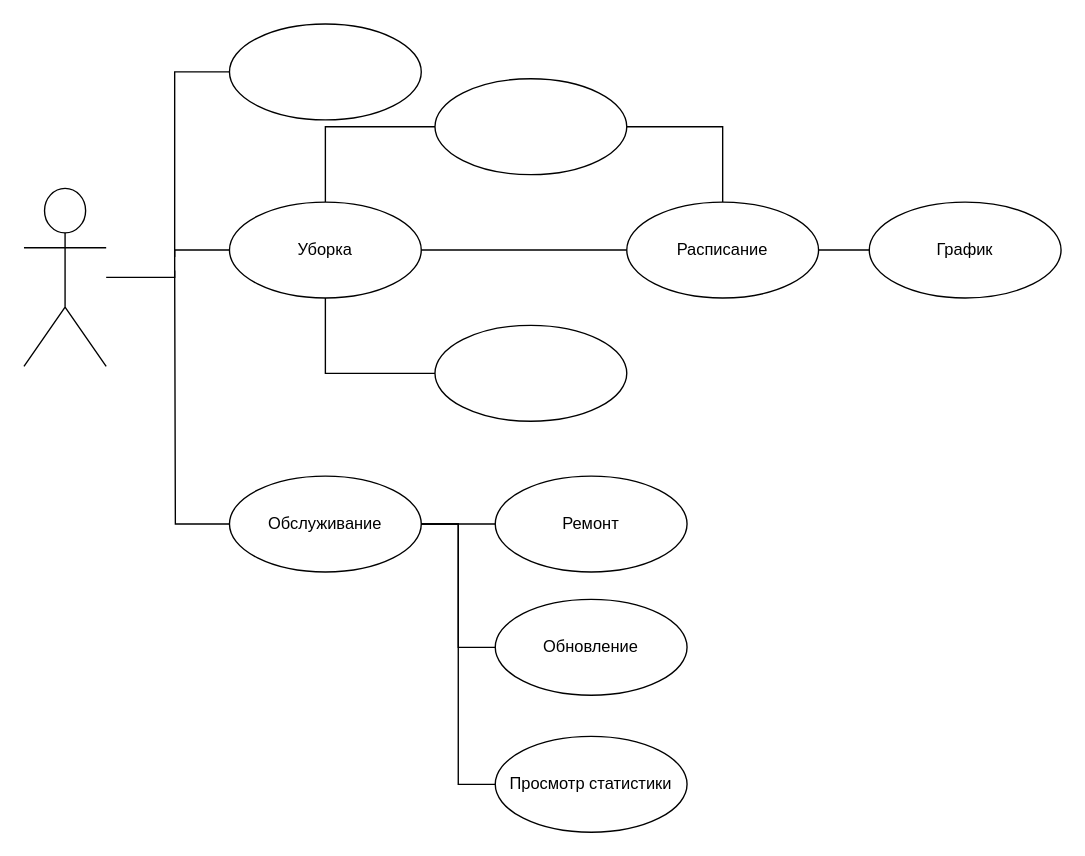
The diagram is 1085 pixels wide and 856 high, and some of its shapes have lost their labels. The shapes that lost their labels are listed below. From the top down, each one's box as (x1, y1, x2, y2) in pixels, then its label:
(228, 23, 421, 120): Подключение
(434, 77, 627, 175): Выбор программы
(23, 187, 106, 366): Actor
(434, 324, 627, 421): Остановить уборку
